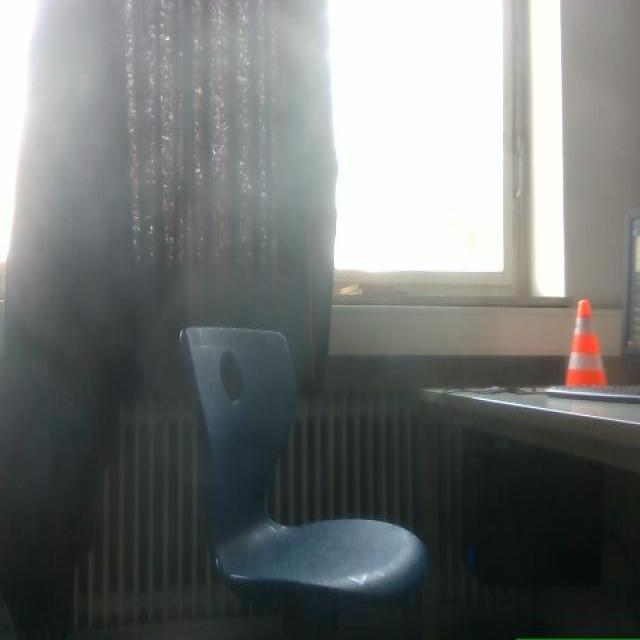objects: (181, 328, 427, 617), (461, 428, 602, 589), (566, 299, 606, 386), (621, 211, 639, 358), (622, 211, 639, 355), (546, 386, 639, 403)
